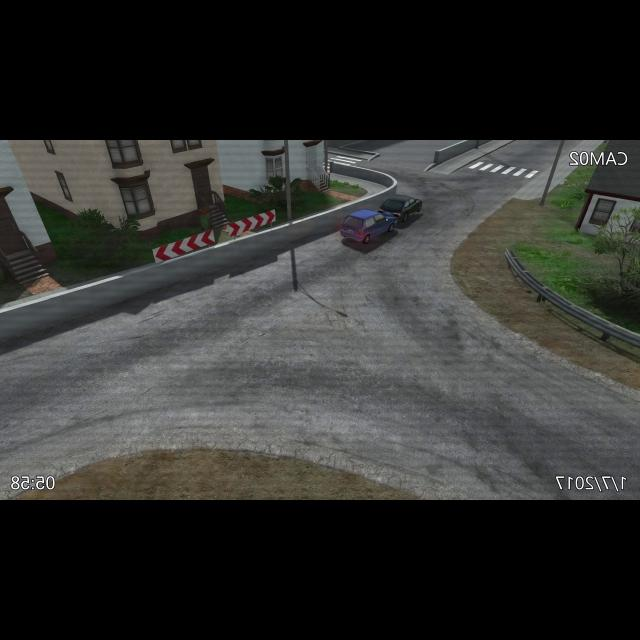accident: (335, 193, 431, 248)
